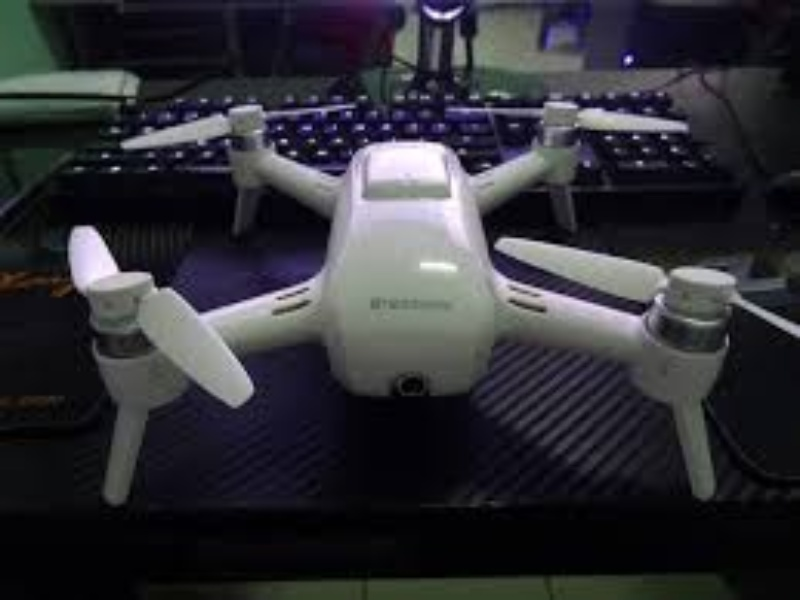drone: (60, 90, 780, 508)
